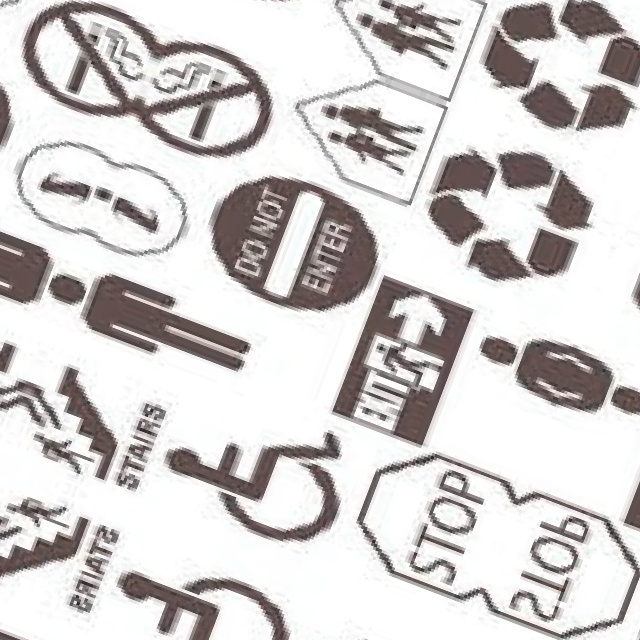ISA: (146, 377, 365, 561), (85, 537, 304, 640), (623, 559, 640, 640)
